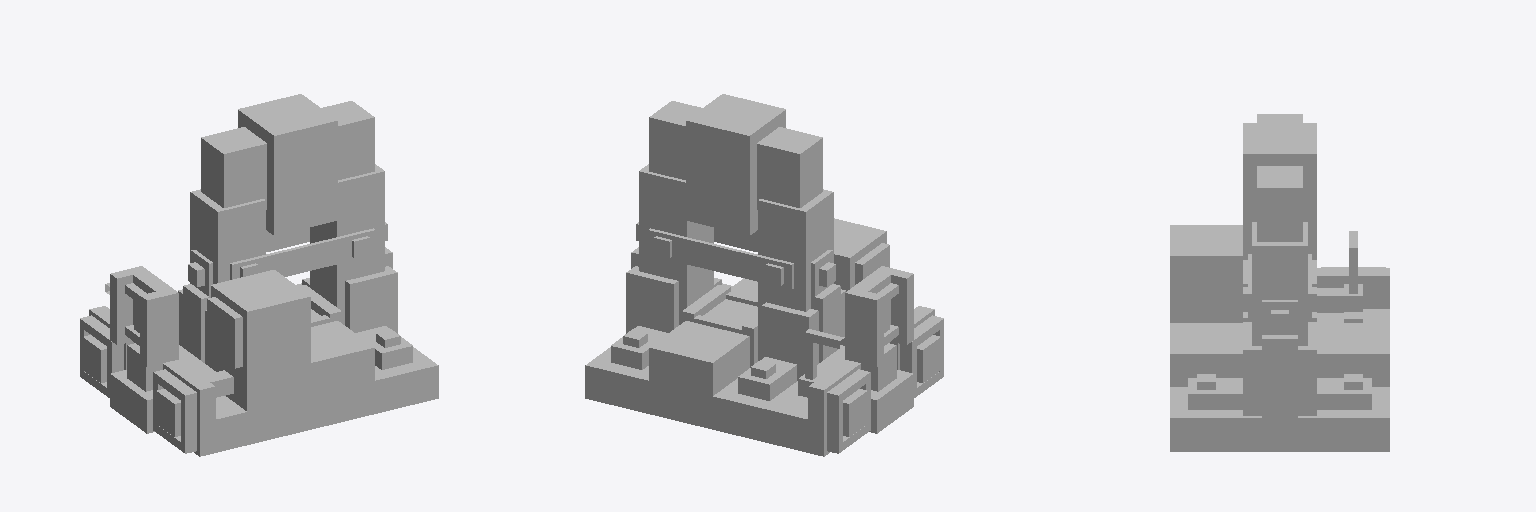
Rendered from forging_press.obj.
The picture shows the model from 3 angles: view 1: azimuth 30°, elevation 25°; view 2: azimuth 150°, elevation 25°; view 3: azimuth 270°, elevation 25°; orthographic projection.
Parts seen in each view (by area): view 1: cube.053; view 2: cube.053; view 3: cube.053.
Part boxes in pixels (left/top/right/bottom): cube.053: left=80, top=94, right=438, bottom=456; cube.053: left=585, top=94, right=943, bottom=456; cube.053: left=1170, top=114, right=1389, bottom=451.
Size of the model in its own units: 4 by 4 by 3.